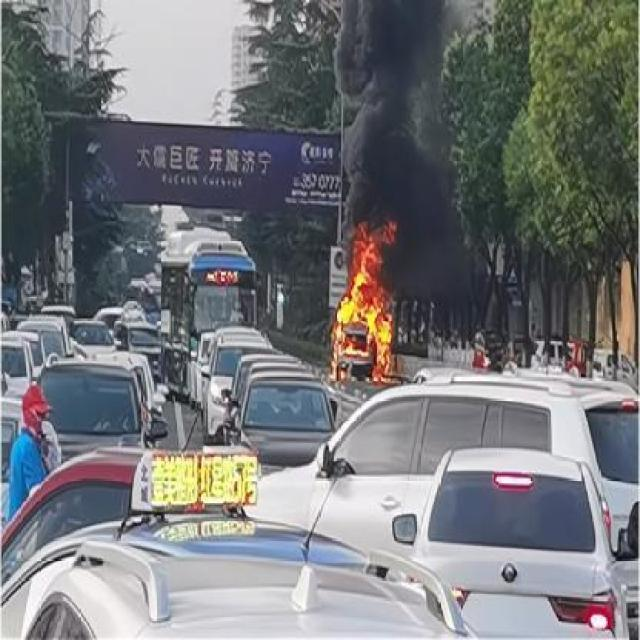Fire: (336, 229, 394, 377)
Smoke: (333, 0, 449, 271)
